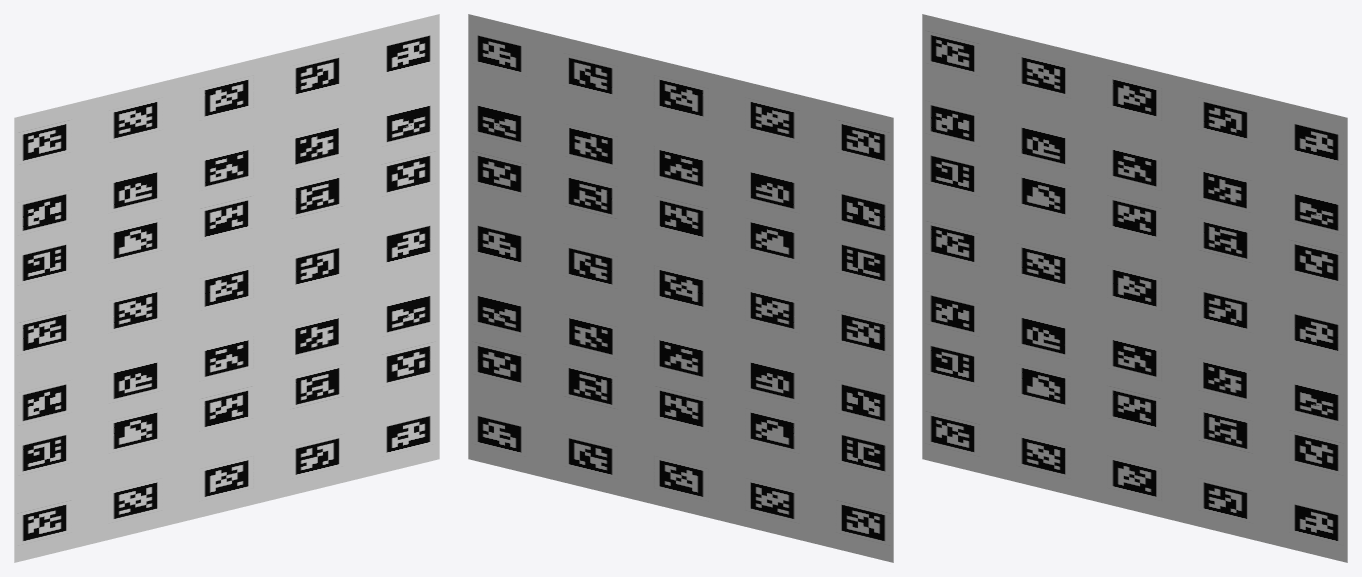
File: paper_2.obj
3 views of the same model, side by side, from view 1: azimuth 30°, elevation 25°; view 2: azimuth 150°, elevation 25°; view 3: azimuth 330°, elevation 25° (orthographic).
Visible parts, largest first — view 1: Grid; view 2: Grid; view 3: Grid.
Boxes of the visible parts, x1,y1,x2,y2 form: Grid: (14, 14, 439, 562); Grid: (468, 14, 893, 562); Grid: (922, 14, 1347, 562).
Bounding box in the file's own units: 2 × 2 × 0.
1 material, 1 textured.
